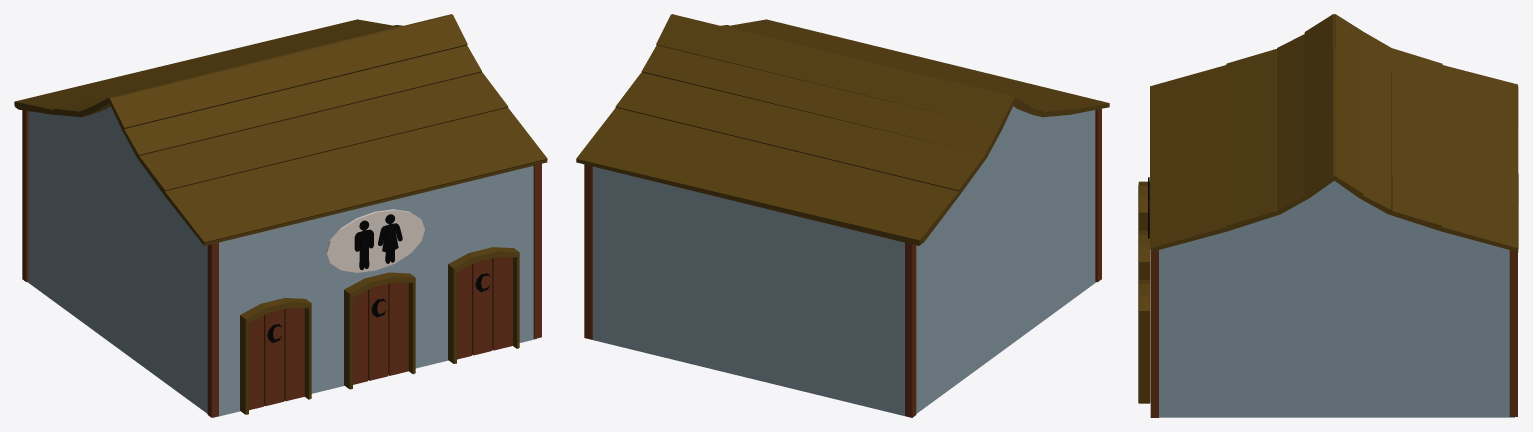
The model's file is Toilet.fbx.
3 views of the same model, side by side, from view 1: azimuth 30°, elevation 25°; view 2: azimuth 150°, elevation 25°; view 3: azimuth 270°, elevation 25° (orthographic). The views are drawn at different scales.
Parts seen in each view (by area): view 1: Toilet; view 2: Toilet; view 3: Toilet.
Boxes of the visible parts, x1,y1,x2,y2 form: Toilet: (14, 14, 547, 417); Toilet: (576, 14, 1109, 417); Toilet: (1138, 14, 1518, 417).
Size of the model in its own units: 1151 by 812 by 1140.
